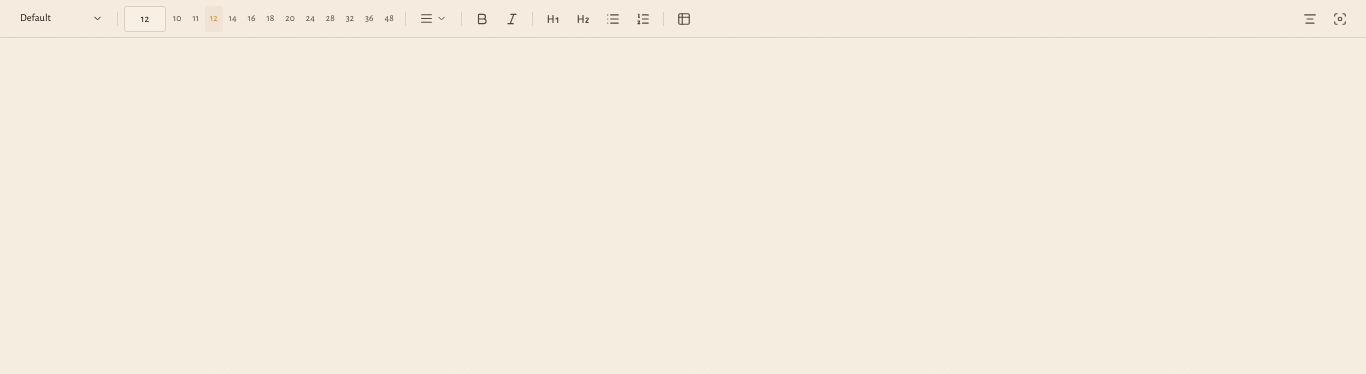
Test: EditorToolbar › clicking font family button opens dropdown with font options
The width and height of the screenshot is (1366, 374).
Click the button titled "Font family" at (62, 18), box [12, 6, 111, 32]
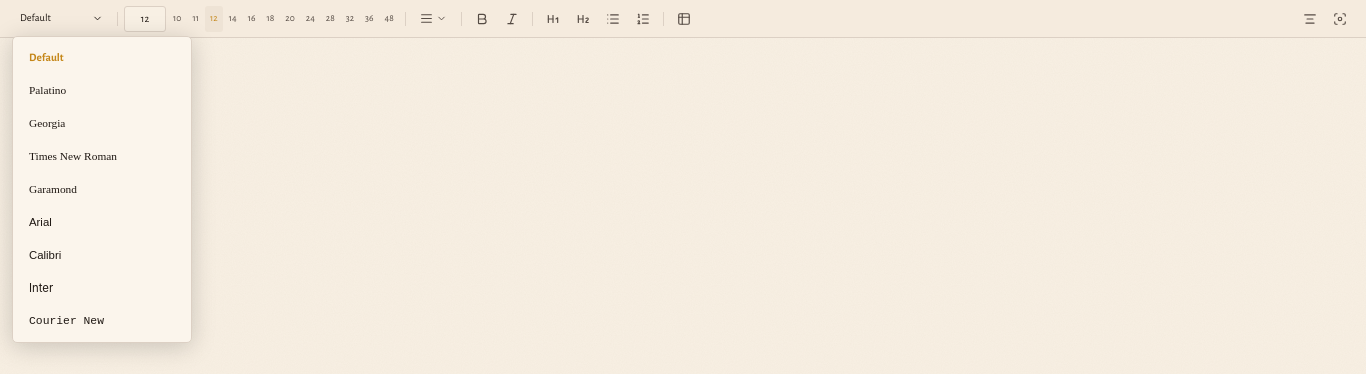
Expected: the button "Palatino" is shown, [17, 74, 187, 107]
